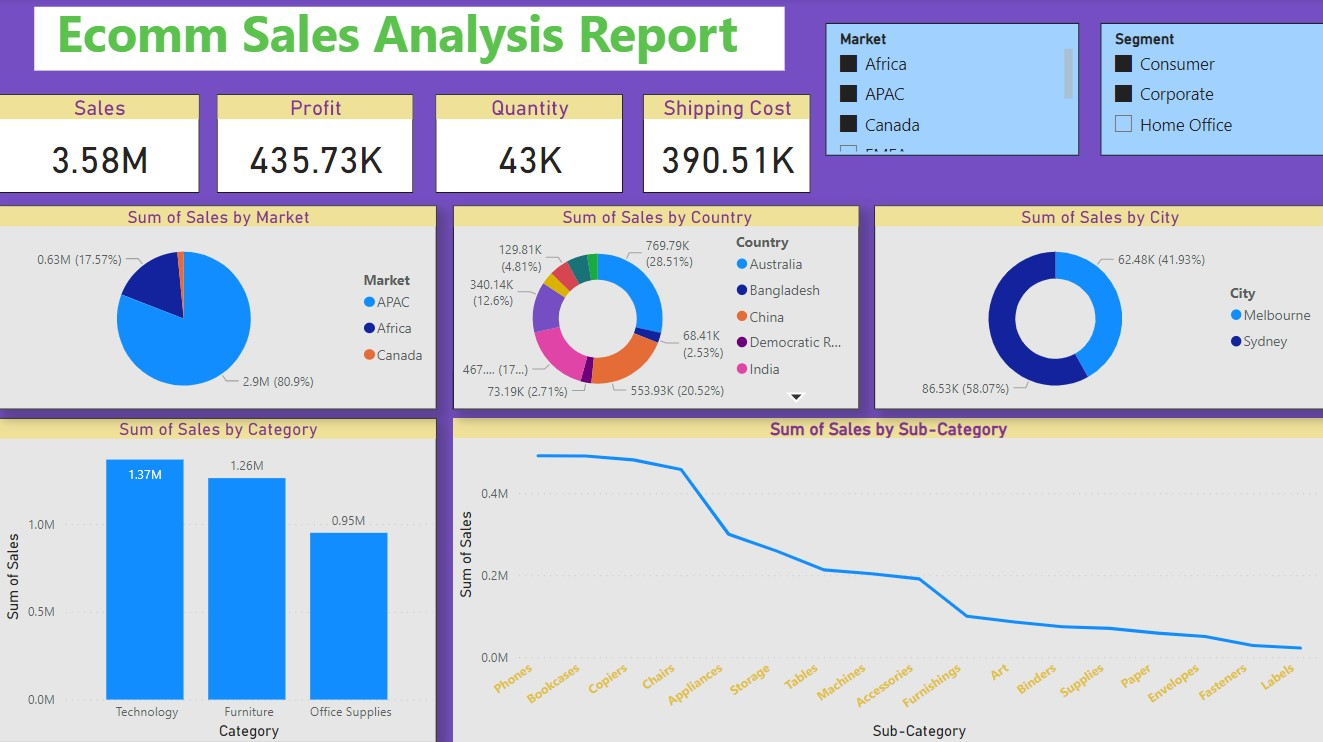

Layout of this report page (visuals, bound fields, positions):
{"tool":"powerbi","page":{"name":"Page 1","canvas":[1280,720],"ordinal":0},"visuals":[{"type":"columnChart","fields":{"Category":["Orders.Category"],"Y":["Sum(Orders.Sales)"]},"box":[0,397.3,423,322.7],"z":0},{"type":"pieChart","fields":{"Y":["Sum(Orders.Sales)"],"Category":["Orders.Market"]},"box":[0,188.3,423,209],"z":1000},{"type":"lineChart","fields":{"Y":["Sum(Orders.Sales)"],"Category":["Orders.Sub-Category"]},"box":[394.2,396.9,885.8,322.7],"z":2000},{"type":"donutChart","fields":{"Series":["Orders.Country"],"Y":["Sum(Orders.Sales)"]},"box":[423,188.3,423,209],"z":3000},{"type":"donutChart","fields":{"Series":["Orders.City"],"Y":["Sum(Orders.Sales)"]},"box":[845.9,188.3,434,209],"z":4000},{"type":"lineChart","fields":{"Y":["Sum(Orders.Sales)"],"Category":["Orders.Sub-Category"]},"box":[394.2,397.3,885.8,322.7],"z":5000},{"type":"lineChart","fields":{"Y":["Sum(Orders.Sales)"],"Category":["Orders.Sub-Category"]},"box":[394.2,397.3,885.8,322.7],"z":6000},{"type":"lineChart","fields":{"Y":["Sum(Orders.Sales)"],"Category":["Orders.Sub-Category"]},"box":[394.2,397.3,885.8,322.7],"z":7000},{"type":"lineChart","fields":{"Y":["Sum(Orders.Sales)"],"Category":["Orders.Sub-Category"]},"box":[394.2,397.3,885.8,322.7],"z":8000},{"type":"lineChart","fields":{"Y":["Sum(Orders.Sales)"],"Category":["Orders.Sub-Category"]},"box":[394.2,397.3,885.8,322.7],"z":9000},{"type":"card","title":"Profit","fields":{"Values":["Sum(Orders.Profit)"]},"box":[211.5,92.9,189.5,95.3],"z":10000},{"type":"card","title":"Sales","fields":{"Values":["Sum(Orders.Sales)"]},"box":[0,92.9,194.4,95.3],"z":11000},{"type":"card","title":"Quantity","fields":{"Values":["Sum(Orders.Quantity)"]},"box":[421.7,92.9,180.9,95.3],"z":12000},{"type":"card","title":"Shipping Cost","fields":{"Values":["Sum(Orders.Shipping Cost)"]},"box":[622.2,92.9,161.4,95.3],"z":13000},{"type":"slicer","title":"Maret","fields":{"Values":["Orders.Market"]},"box":[798.2,8.6,244.5,144.2],"z":14000},{"type":"slicer","fields":{"Values":["Orders.Segment"]},"box":[1063.5,8.6,216.4,144.2],"z":15000},{"type":"textbox","box":[0,8.6,783.6,72.1],"z":16000}]}

Visuals, with their boxes in screenshot pixels (x1, y1, x2, y2), scaled from the page's 1280x720 canvas onto the 1323x742 screenshot:
columnChart - Orders.Category x Sum(Orders.Sales): [0, 409, 437, 741]
pieChart - Sum(Orders.Sales) x Orders.Market: [0, 194, 437, 409]
lineChart - Sum(Orders.Sales) x Orders.Sub-Category: [407, 409, 1322, 741]
donutChart - Orders.Country x Sum(Orders.Sales): [437, 194, 874, 409]
donutChart - Orders.City x Sum(Orders.Sales): [874, 194, 1322, 409]
lineChart - Sum(Orders.Sales) x Orders.Sub-Category: [407, 409, 1322, 741]
lineChart - Sum(Orders.Sales) x Orders.Sub-Category: [407, 409, 1322, 741]
lineChart - Sum(Orders.Sales) x Orders.Sub-Category: [407, 409, 1322, 741]
lineChart - Sum(Orders.Sales) x Orders.Sub-Category: [407, 409, 1322, 741]
lineChart - Sum(Orders.Sales) x Orders.Sub-Category: [407, 409, 1322, 741]
"Profit" card: [219, 96, 414, 194]
"Sales" card: [0, 96, 201, 194]
"Quantity" card: [436, 96, 623, 194]
"Shipping Cost" card: [643, 96, 810, 194]
"Maret" slicer: [825, 9, 1078, 157]
slicer - Orders.Segment: [1099, 9, 1322, 157]
textbox: [0, 9, 810, 83]
